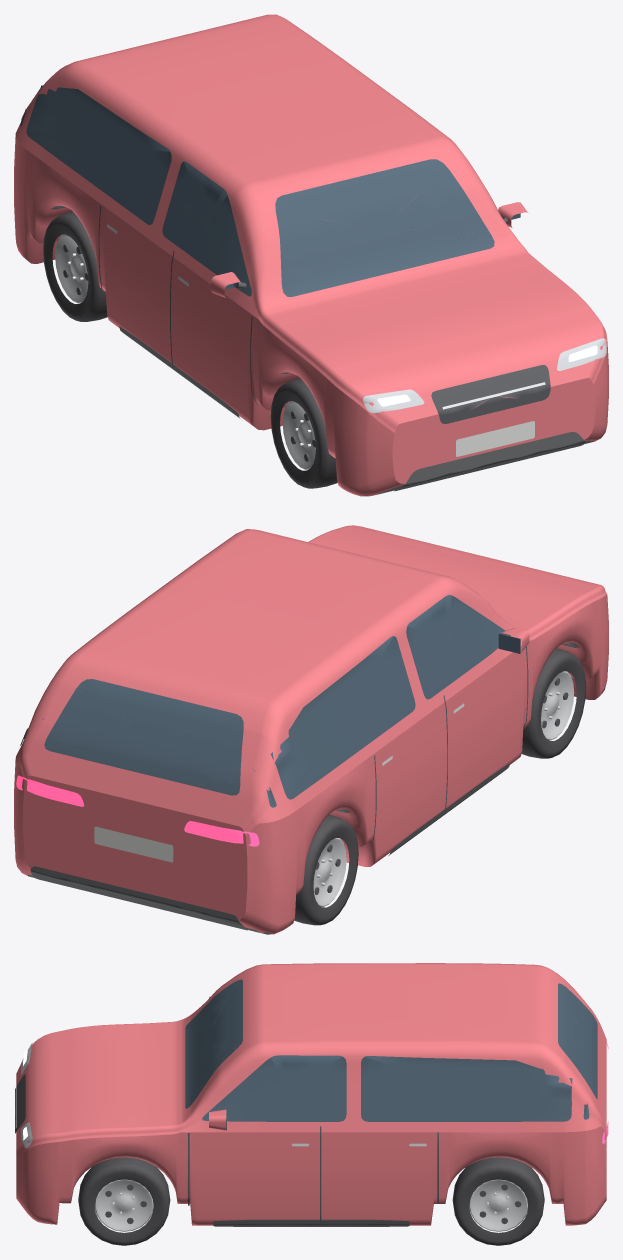
Rendered from car-hatchback.glb.
3 renders of one model, top to bottom at view 1: azimuth 30°, elevation 25°; view 2: azimuth 150°, elevation 25°; view 3: azimuth 270°, elevation 25°, orthographic. The views are drawn at different scales.
Visible parts, largest first — view 1: car-hatchback; view 2: car-hatchback; view 3: car-hatchback.
Part boxes in pixels (bbox=[...]): car-hatchback: bbox=[14, 14, 608, 496]; car-hatchback: bbox=[14, 525, 608, 934]; car-hatchback: bbox=[15, 963, 608, 1245].
Size of the model in its own units: 2.05 by 1.48 by 4.13.
